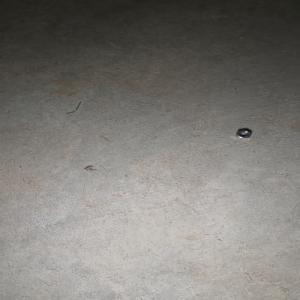Nut: (234, 128, 251, 138)
